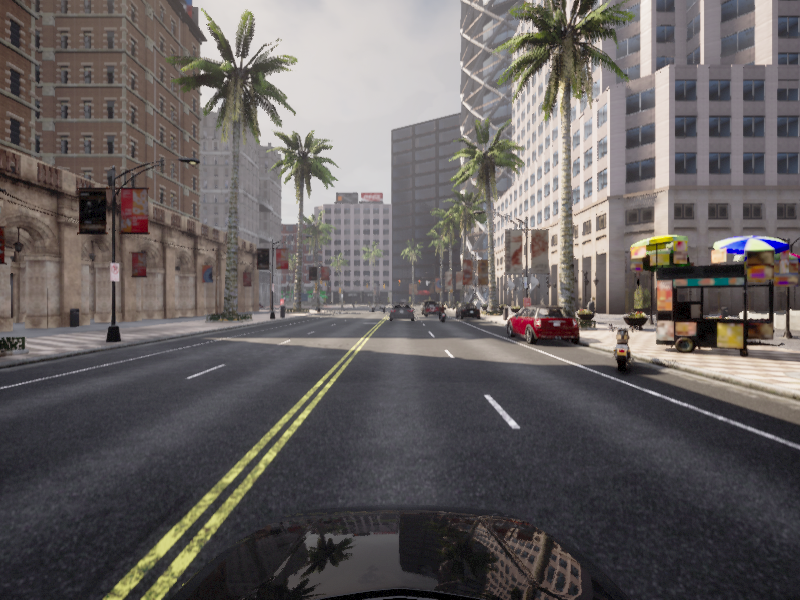vehicle: (388, 302, 415, 322), (422, 302, 443, 317), (436, 303, 448, 323)
